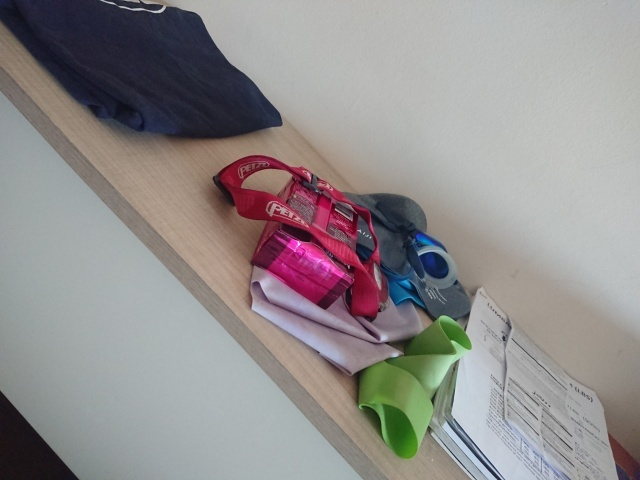Barcaffe Classic Original 225g: (248, 164, 363, 312)
